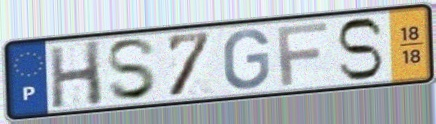7: (165, 29, 214, 100)
F: (275, 20, 330, 88)
G: (221, 27, 272, 92)
H: (46, 38, 106, 111)
S: (104, 36, 160, 104), (334, 16, 386, 83)
